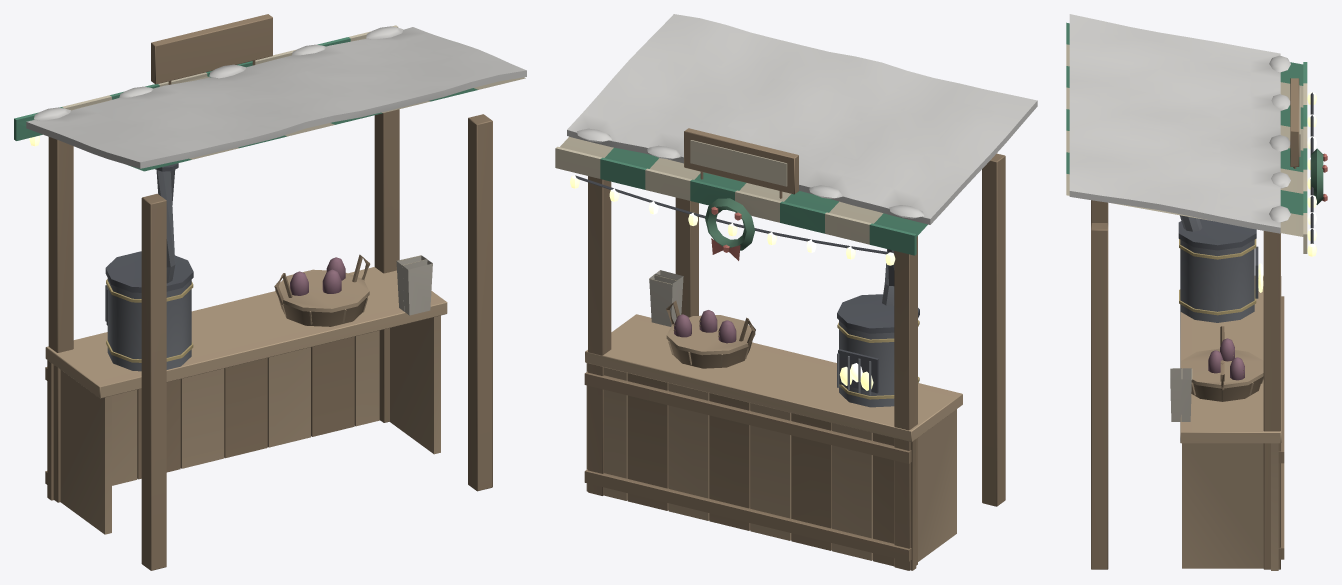
File: market_stall_sweetpotato.glb
3 views of the same model, side by side, from view 1: azimuth 30°, elevation 25°; view 2: azimuth 150°, elevation 25°; view 3: azimuth 270°, elevation 25° (orthographic). The views are drawn at different scales.
Visible parts, largest first — view 1: market_stall_sweetpotato; view 2: market_stall_sweetpotato; view 3: market_stall_sweetpotato.
Boxes of the visible parts, x1,y1,x2,y2 form: market_stall_sweetpotato: (14,14,526,570); market_stall_sweetpotato: (555,14,1037,570); market_stall_sweetpotato: (1066,14,1327,570).
Bounding box in the file's own units: 2.49 × 2.6 × 1.57.
